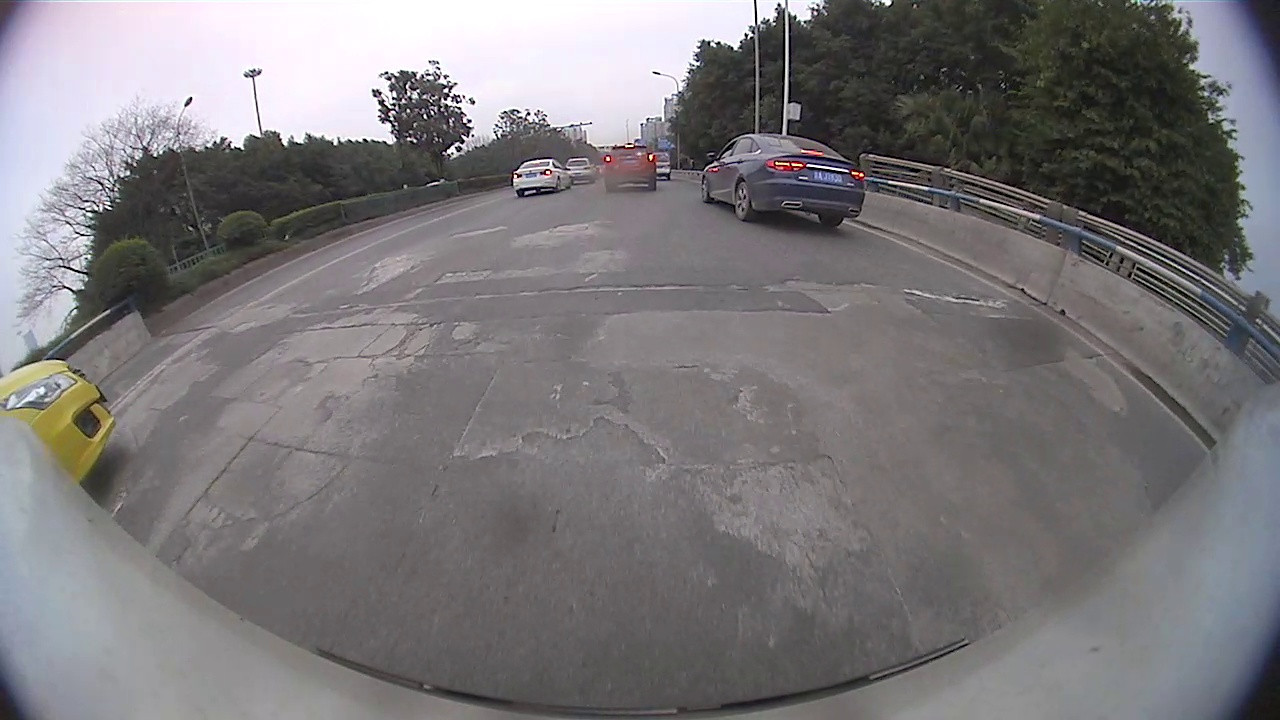car: (699, 129, 868, 228), (1, 358, 119, 480), (510, 153, 575, 198), (602, 143, 660, 193), (563, 156, 598, 186)
front: (698, 177, 711, 204)
rear: (735, 182, 755, 223)
